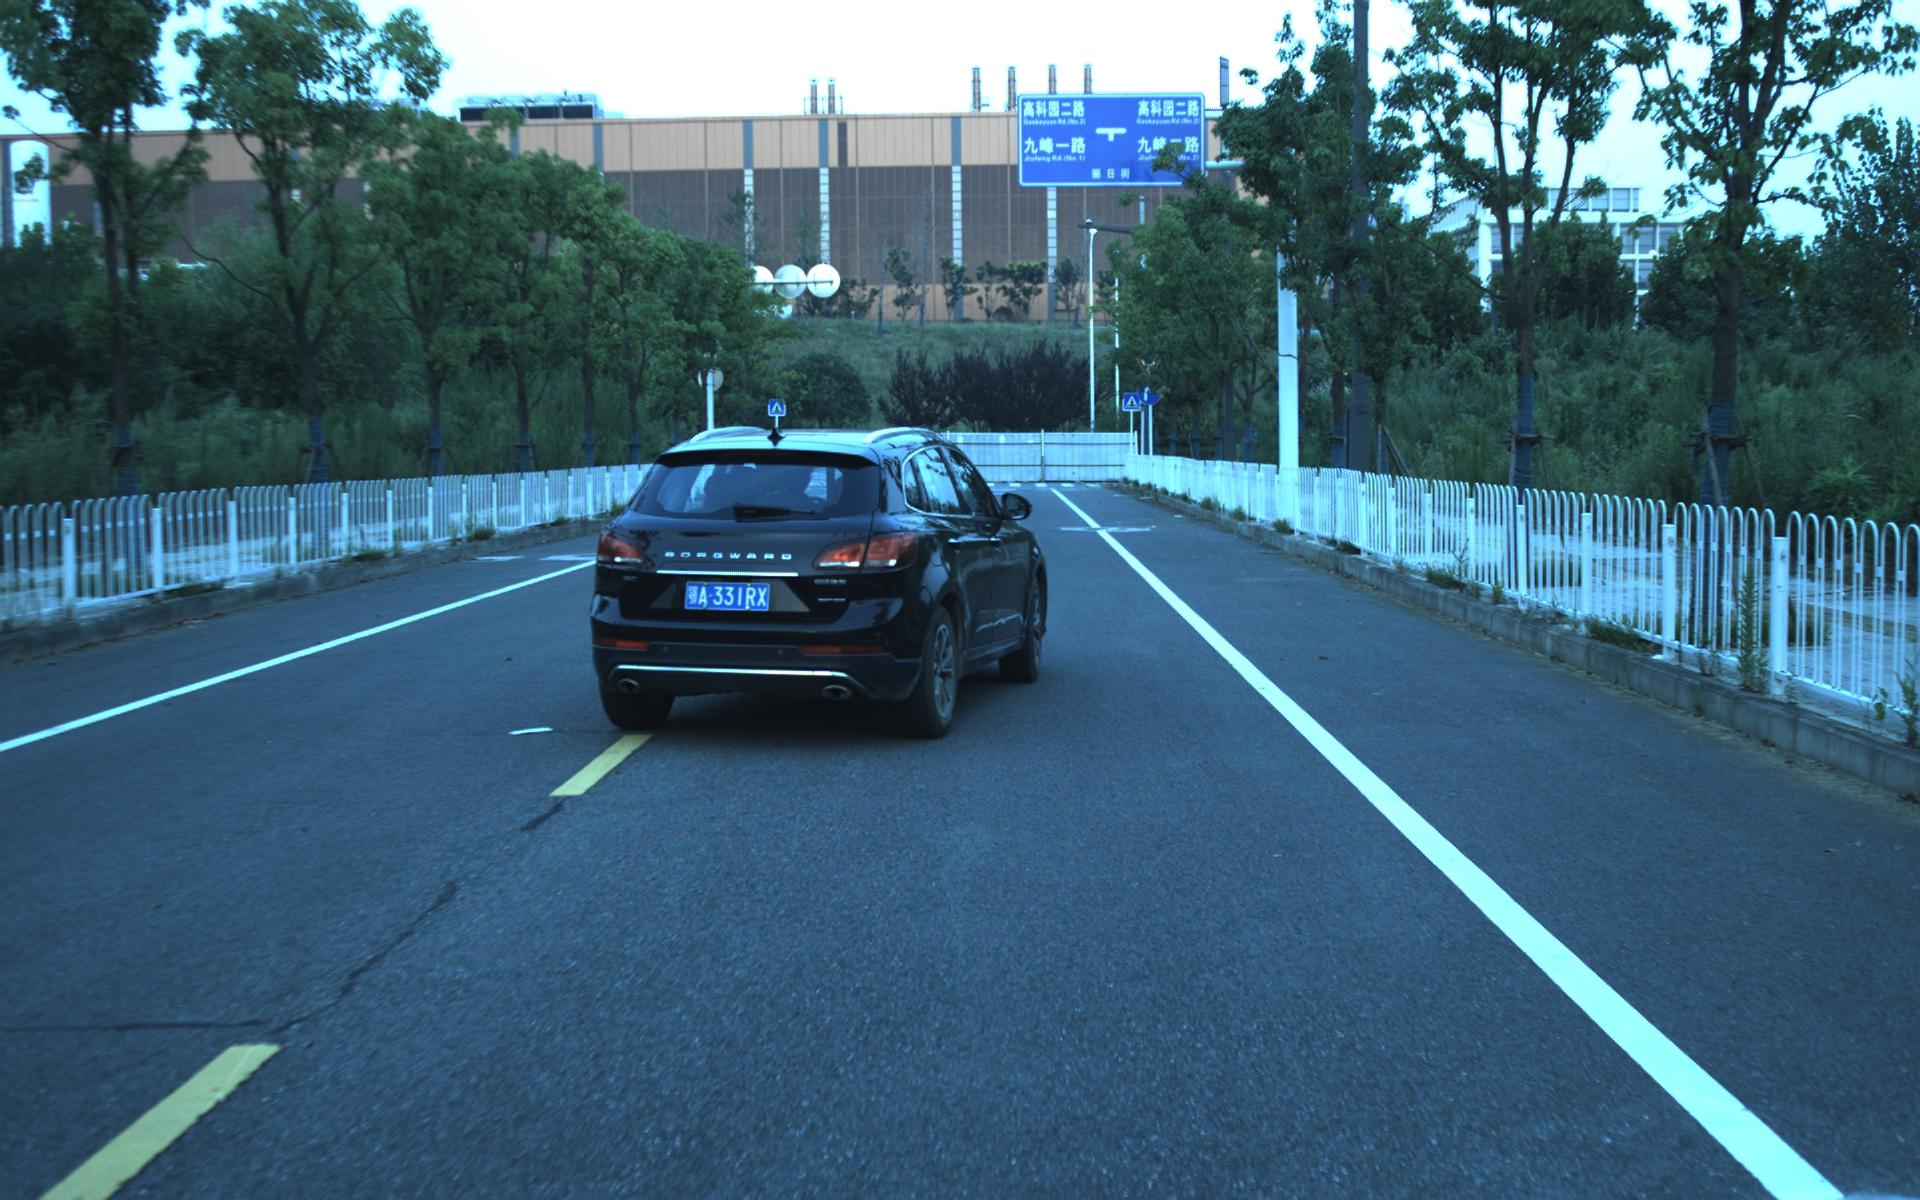Car: (570, 415, 1055, 753)
